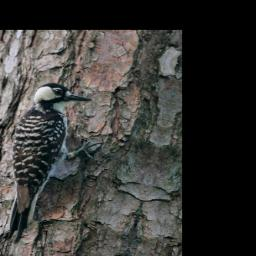Woodpecker: (0, 76, 121, 256)
